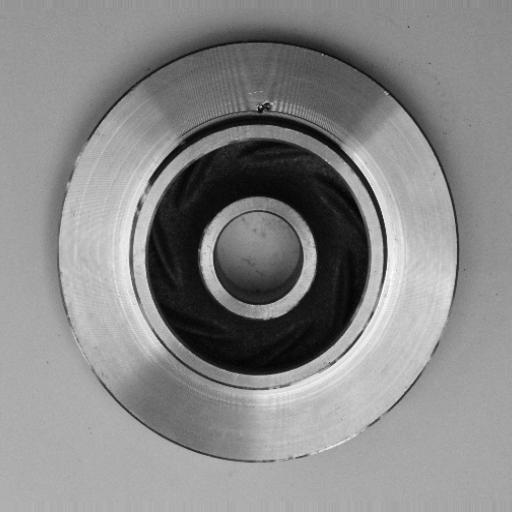crack: (245, 96, 280, 121)
scratch: (124, 178, 162, 236)
unpolished_casting: (58, 37, 460, 465)
